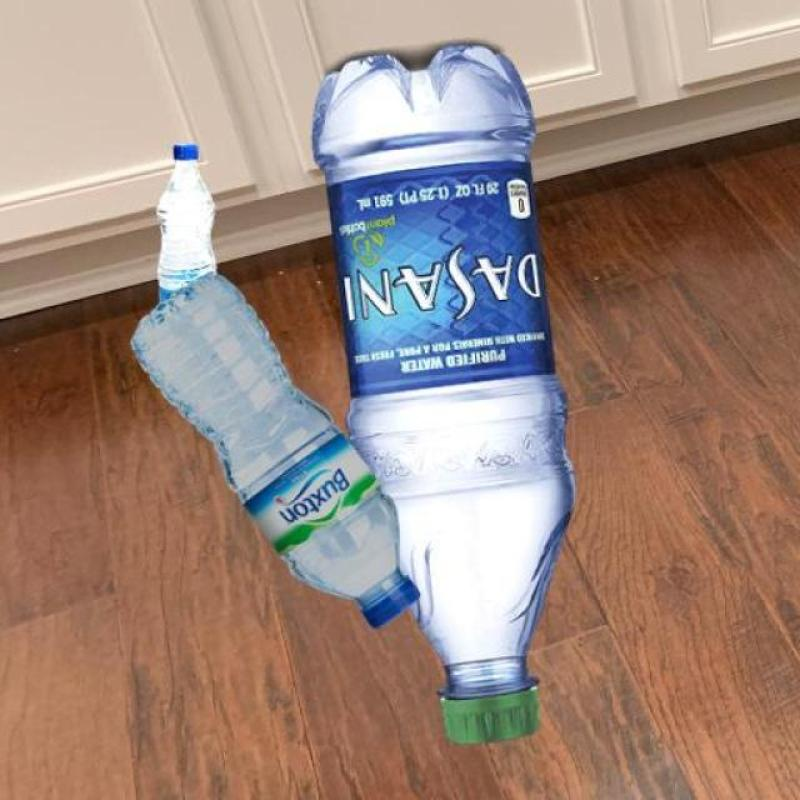botella: (302, 42, 574, 742), (130, 275, 420, 626), (158, 142, 218, 303)
